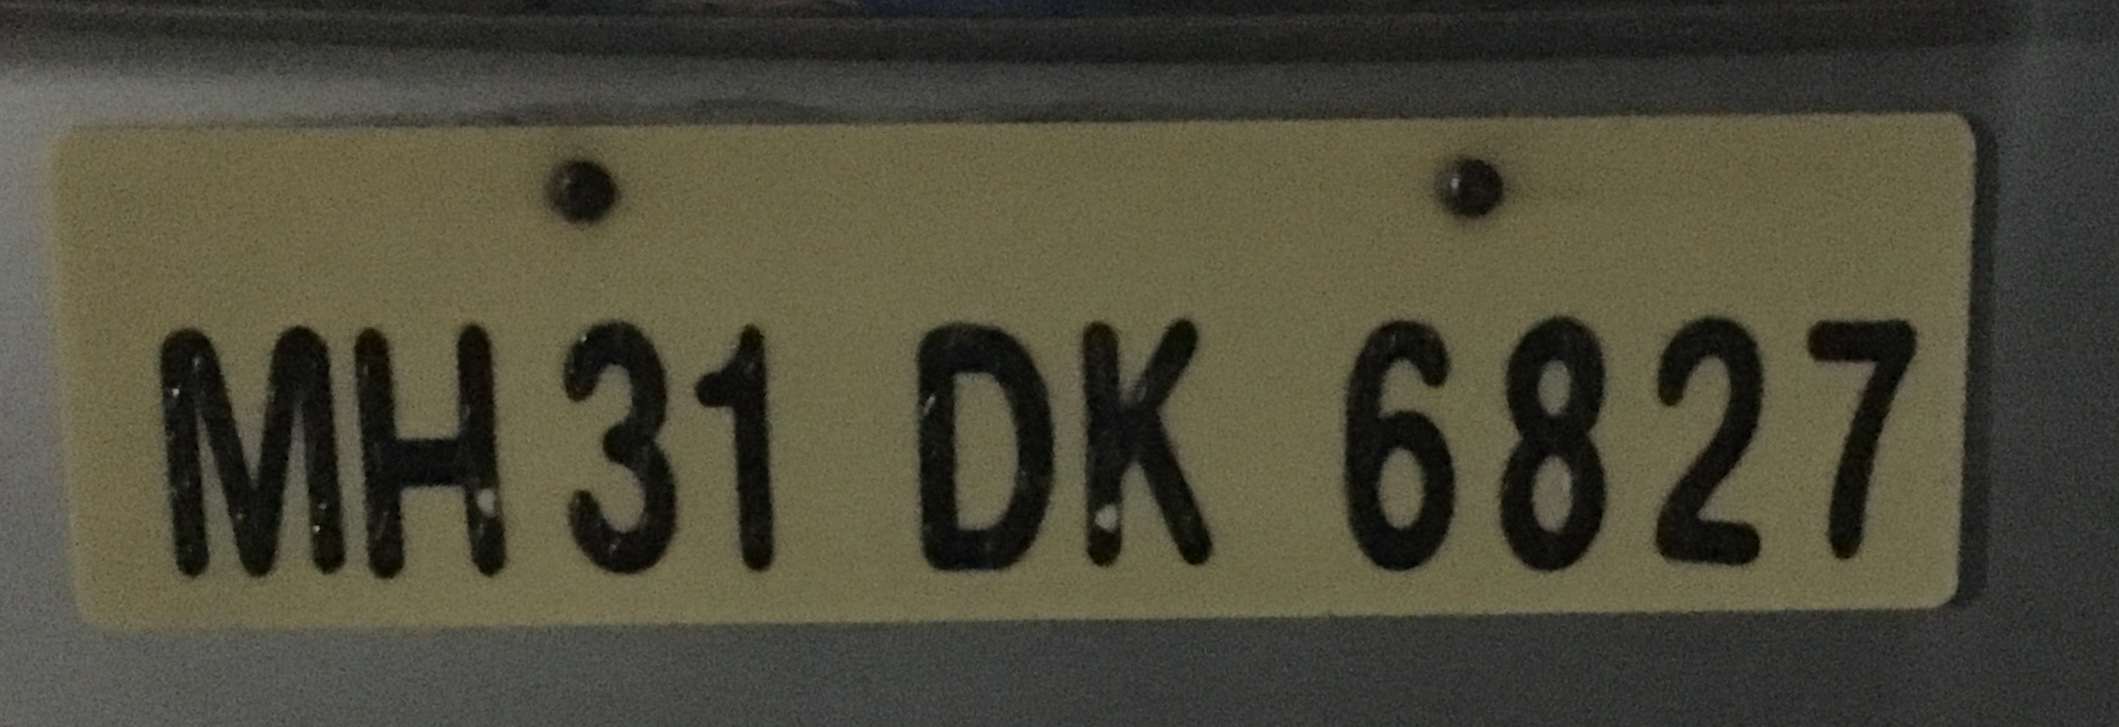numberplate: (41, 112, 1983, 621)
